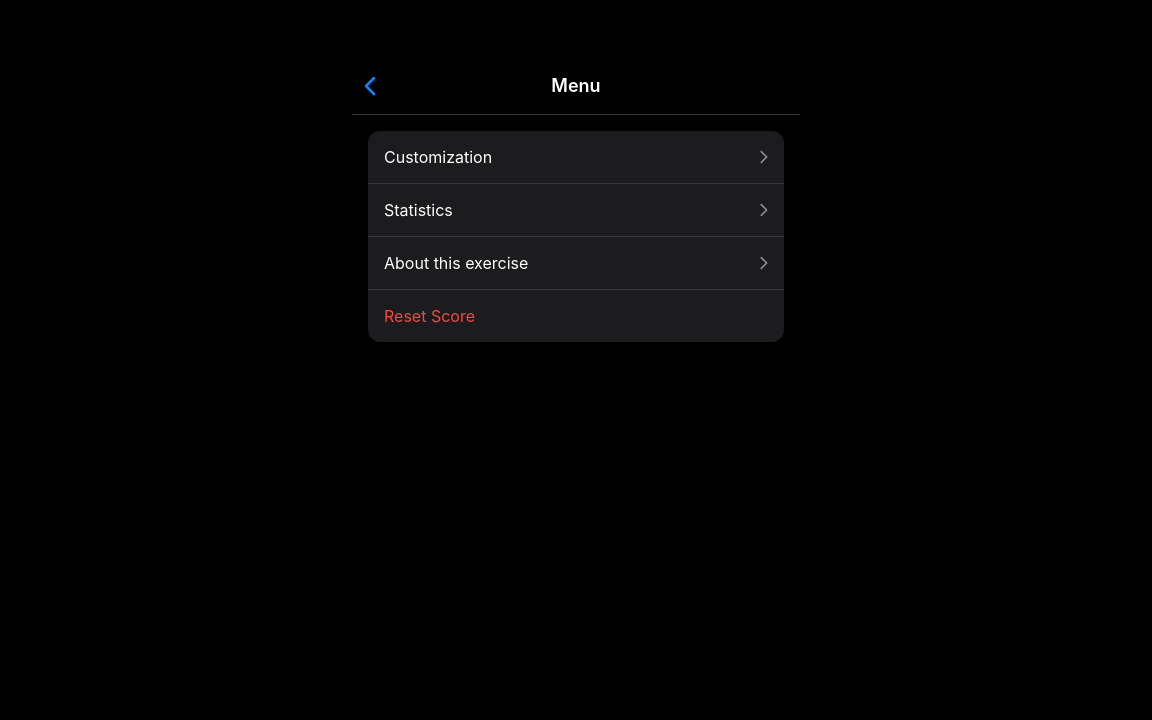
Test: thin evidence › counts what is missing in one line rather than per row
Click the button "Statistics" at (418, 210), box [368,183,784,236]
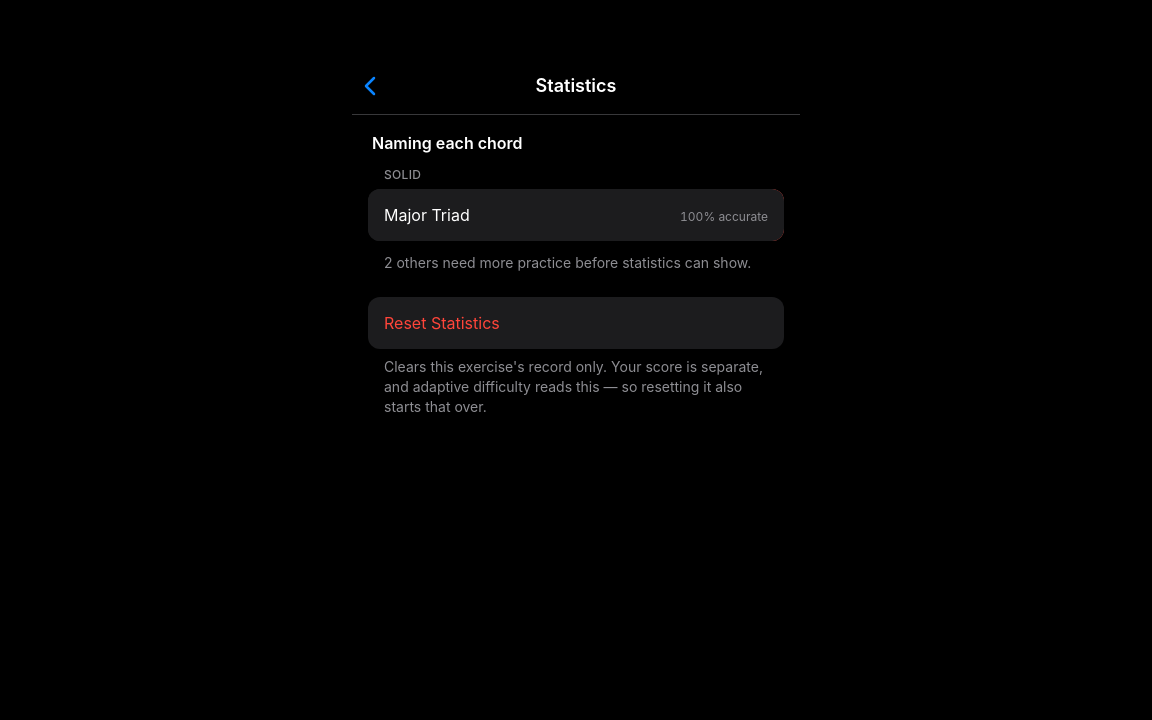
Expected: the text "Major Triad" is shown, [384,203,470,227]
Expected: the text "2 others need more practice before statistics can show." is shown, [368,253,784,273]
